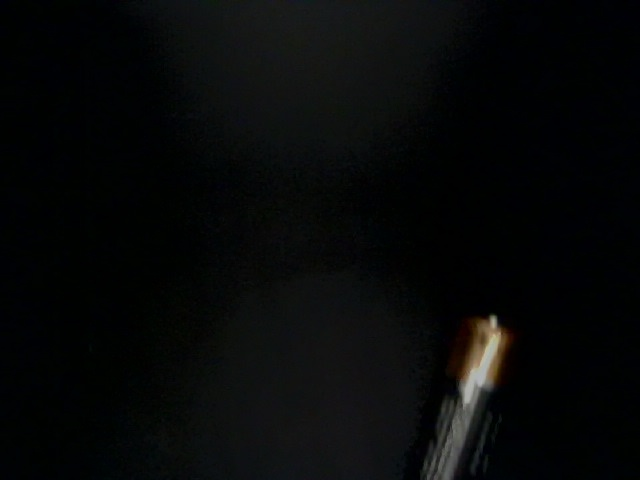QTLJ: (42, 278, 208, 477)
